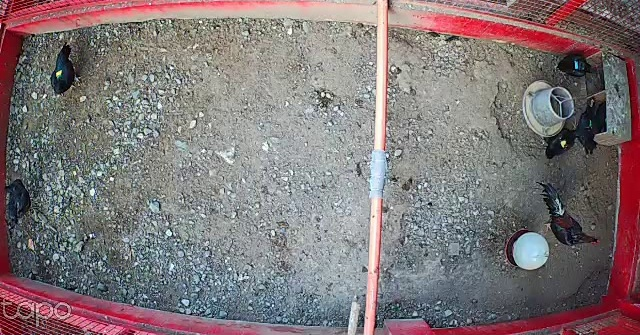Chicken: (0, 175, 44, 234), (48, 41, 86, 99), (572, 96, 600, 156), (549, 52, 601, 81), (545, 126, 579, 164)
Saddle_Color_Blue: (573, 61, 580, 70)
Saddle_Color_Green: (589, 119, 592, 127)
Saddle_Color_Yellow: (559, 141, 568, 150)
Saddle_Color_YellowGreen: (53, 68, 63, 81)
